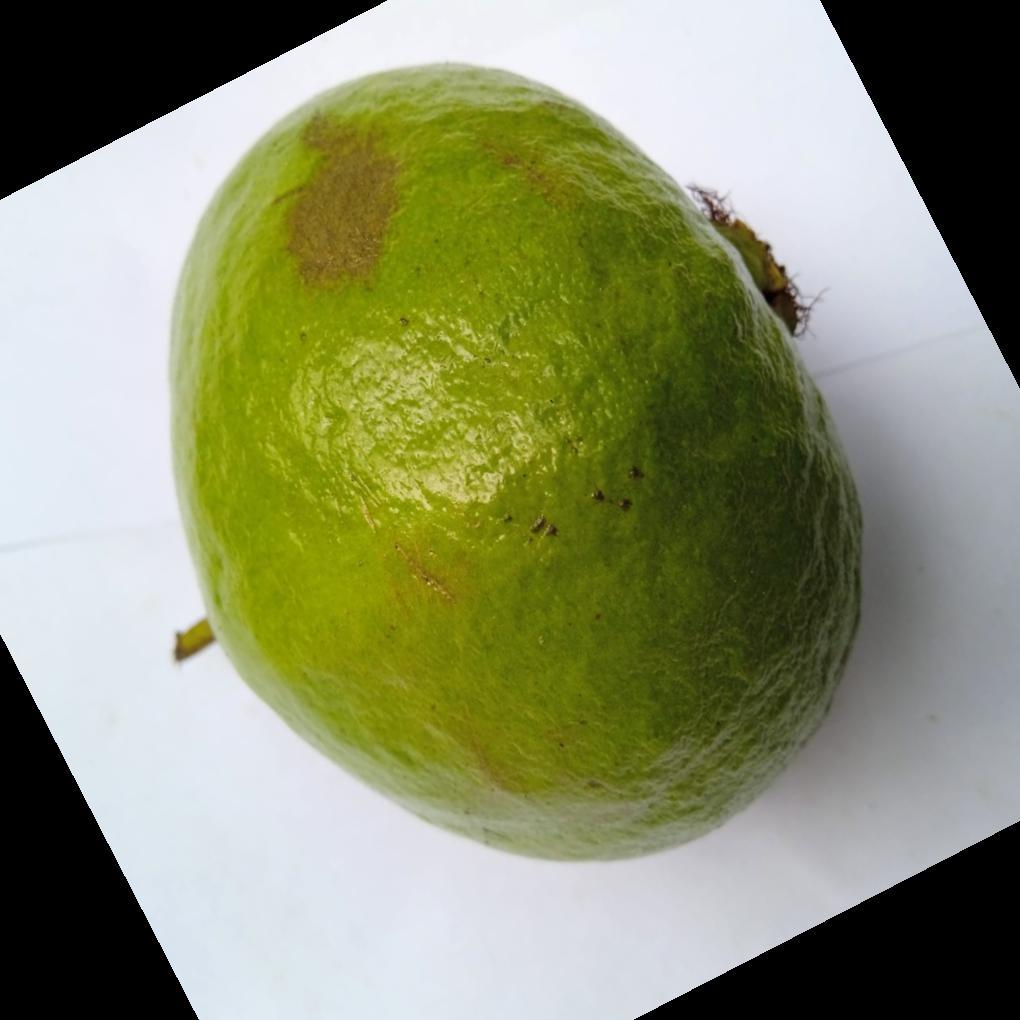FreshGuava: (166, 62, 865, 867)
